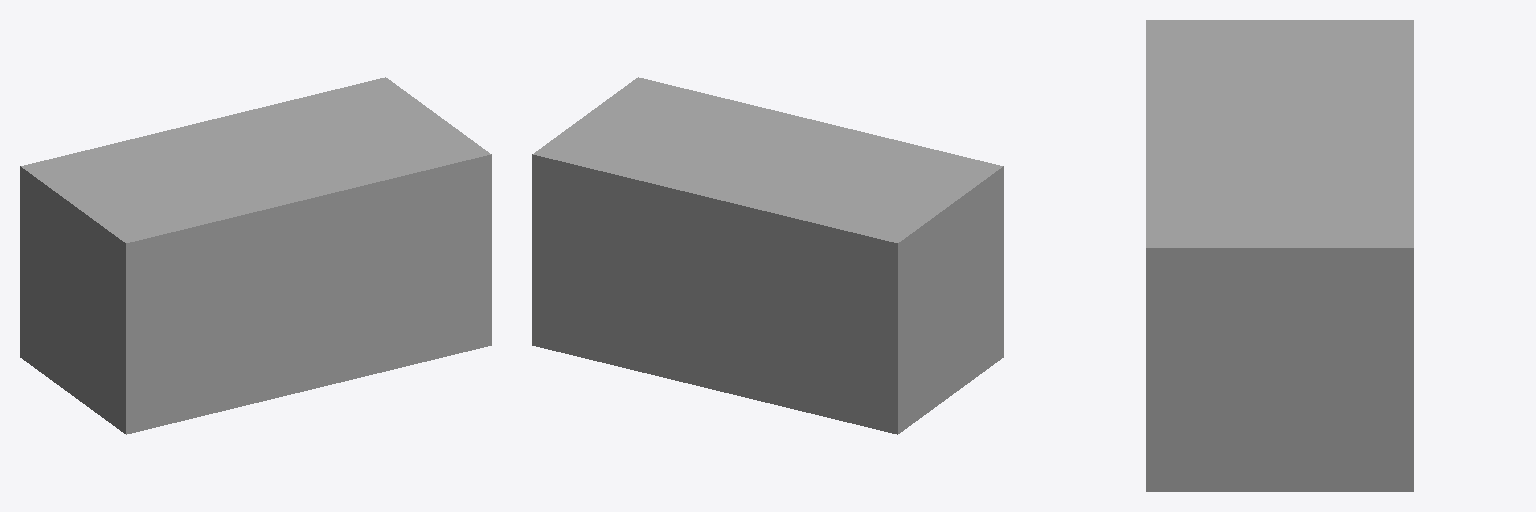
The robot description file, URDF, robot "agvm_robot":
<?xml version="1.0" ?>
<!-- =================================================================================== -->
<!-- |    This document was autogenerated by xacro from [local-path]/agvm_ros2/install/agvm_description/share/agvm_description/urdf/agvm.urdf.xacro | -->
<!-- |    EDITING THIS FILE BY HAND IS NOT RECOMMENDED                                 | -->
<!-- =================================================================================== -->
<robot name="agvm_robot">
  <!-- Put all the color definitions in a separate file -->
  <material name="Black">
    <color rgba="0.2 0.2 0.2 1.0"/>
  </material>
  <material name="TransparentBlack">
    <color rgba="0.2 0.2 0.2 0.8"/>
  </material>
  <material name="Orange">
    <color rgba="1.0  0.55 0.0 1.0"/>
  </material>
  <material name="Grey">
    <color rgba="0.7 0.7 0.7 1.0"/>
  </material>
  <material name="DarkGrey">
    <color rgba="0.3 0.3 0.3 1.0"/>
  </material>
  <material name="Red">
    <color rgba="0.8 0.0 0.0 1.0"/>
  </material>
  <material name="White">
    <color rgba="1.0 1.0 1.0 1.0"/>
  </material>
  <material name="OffWhite">
    <color rgba="0.8 0.8 0.8 1.0"/>
  </material>
  <material name="Blue">
    <color rgba="0.0 0.0 0.8 1.0"/>
  </material>
  <material name="Green">
    <color rgba="0.0 0.8 0.0 1.0"/>
  </material>
  <material name="TransparentGreen">
    <color rgba="0.0 0.8 0.0 0.5"/>
  </material>
  <link name="base_footprint">
    <visual>
      <origin rpy="0 0 0" xyz="0 0 0"/>
      <geometry>
        <box size="0.05 0.05 0.001"/>
      </geometry>
      <material name="Orange"/>
    </visual>
  </link>
  <link name="base_link">
    <visual>
      <origin rpy="0 0 0" xyz="0 0 0"/>
      <geometry>
        <box size="0.5 0.25 0.25"/>
      </geometry>
      <material name="Grey"/>
    </visual>
    <collision>
      <origin rpy="0 0 0" xyz="0 0 0"/>
      <geometry>
        <box size="0.5 0.25 0.25"/>
      </geometry>
    </collision>
  </link>
  <link name="base_scan">
    <visual>
      <origin rpy="0 0 0" xyz="0 0 0"/>
      <geometry>
        <box size="0.05 0.05 0.001"/>
      </geometry>
      <material name="Red"/>
    </visual>
  </link>
  <joint name="base_joint" type="fixed">
    <origin rpy="0 0 0" xyz="0 0 0"/>
    <parent link="base_footprint"/>
    <child link="base_link"/>
  </joint>
  <joint name="laser_front_joint" type="fixed">
    <origin rpy="0 0 -1.71" xyz="0.0045 0 0"/>
    <parent link="base_link"/>
    <child link="base_scan"/>
  </joint>
</robot>

--- Render facts (derived) ---
The picture shows the robot from 3 angles, left to right: view 1: azimuth 30°, elevation 25°; view 2: azimuth 150°, elevation 25°; view 3: azimuth 270°, elevation 25°; orthographic projection.
Model agvm_robot with 3 links and 2 joints (2 fixed), rooted at base_footprint, posed all joints at 0.
Visible links, largest first — view 1: base_link; view 2: base_link; view 3: base_link.
Link boxes in pixels (<box>): base_link: <box>20,77,491,434</box>; base_link: <box>532,77,1003,434</box>; base_link: <box>1146,20,1413,491</box>.
Size in the robot's own frame: 0.5 by 0.25 by 0.25 metres.
Geometry: primitives only (box / cylinder / sphere), no mesh files.